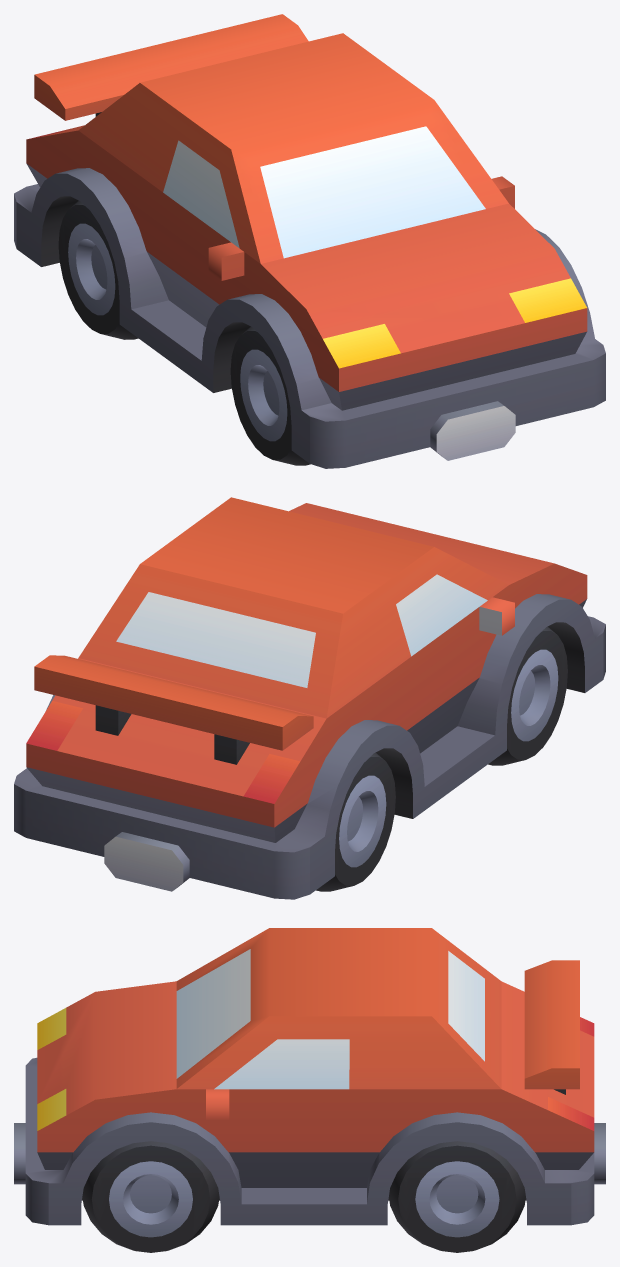
The model's file is car.glb.
3 views of the same model, one above another, from view 1: azimuth 30°, elevation 25°; view 2: azimuth 150°, elevation 25°; view 3: azimuth 270°, elevation 25° (orthographic). The views are drawn at different scales.
Parts seen in each view (by area): view 1: wheel-back-right; view 2: wheel-back-right; view 3: wheel-back-right.
Part boxes in pixels (bbox=[...]): wheel-back-right: bbox=[14, 14, 605, 468]; wheel-back-right: bbox=[14, 497, 605, 899]; wheel-back-right: bbox=[14, 928, 605, 1252].
Size of the model in its own units: 1.3 by 1.1 by 2.55.
1 material, 1 textured.
